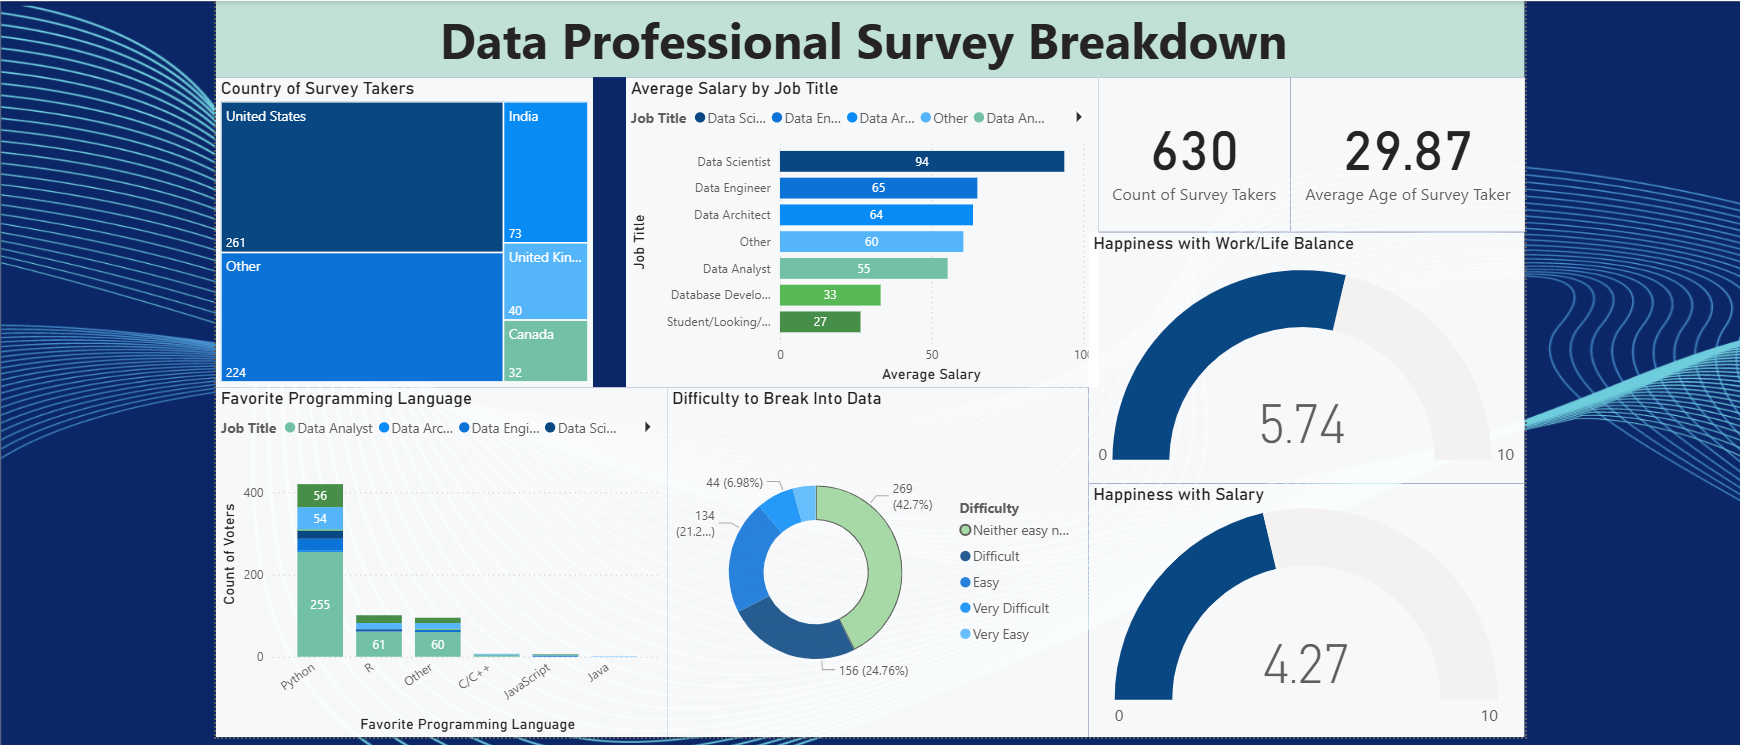

This screenshot's page, from the dashboard's own definition file:
{"tool":"powerbi","page":{"name":"Page 1","canvas":[1280,720],"ordinal":0},"visuals":[{"type":"textbox","box":[0,0,1280.3,74.1],"z":0},{"type":"card","fields":{"Values":["CountNonNull(Data Professional Survey.Unique ID)"]},"box":[863.1,74.1,188,150.9],"z":1000},{"type":"card","fields":{"Values":["Avg(Data Professional Survey.Q10 - Current Age)"]},"box":[1051.1,74.1,229.2,150.9],"z":2000},{"type":"barChart","title":"Average Salary by Job Title","fields":{"Category":["Data Professional Survey.Q1 - Which Title Best Fits your Current Role?.1"],"Y":["Avg(Data Professional Survey.Average Salary)"],"Series":["Data Professional Survey.Q1 - Which Title Best Fits your Current Role?.1"]},"box":[400.7,74.1,462.4,303.3],"z":3000},{"type":"columnChart","title":"  Favorite Programming Language","fields":{"Category":["Data Professional Survey.Q5 - Favorite Programming Language.1.1.1"],"Y":["CountNonNull(Data Professional Survey.Unique ID)"],"Series":["Data Professional Survey.Q1 - Which Title Best Fits your Current Role?.1"]},"box":[0,377.9,441.4,342.4],"z":3001},{"type":"treemap","title":"Country of Survey Takers","fields":{"Values":["CountNonNull(Data Professional Survey.Q11 - Which Country do you live in?.1)"],"Group":["Data Professional Survey.Q11 - Which Country do you live in?.1"]},"box":[0,74.1,369.1,303.3],"z":3002},{"type":"gauge","title":"Happiness with Salary","fields":{"Y":["Avg(Data Professional Survey.Q6 - How Happy are you in your Current Position with the following? (Salary))"],"MinValue":["Min(Data Professional Survey.Q6 - How Happy are you in your Current Position with the following? (Salary))"],"MaxValue":["Max(Data Professional Survey.Q6 - How Happy are you in your Current Position with the following? (Salary))"]},"box":[853.5,472,426.8,248.4],"z":3003},{"type":"gauge","title":"Happiness with Work/Life Balance","fields":{"Y":["Avg(Data Professional Survey.Q6 - How Happy are you in your Current Position with the following? (Work/Life Balance))"],"MinValue":["Min(Data Professional Survey.Q6 - How Happy are you in your Current Position with the following? (Work/Life Balance))"],"MaxValue":["Max(Data Professional Survey.Q6 - How Happy are you in your Current Position with the following? (Work/Life Balance))"]},"box":[853.5,226.2,426.8,245.8],"z":3004},{"type":"donutChart","title":"Difficulty to Break Into Data","fields":{"Category":["Data Professional Survey.Q7 - How difficult was it for you to break into Data?"],"Y":["CountNonNull(Data Professional Survey.Q7 - How difficult was it for you to break into Data?)"]},"box":[441.9,377.4,411.7,343.1],"z":3005}]}

Visuals, with their boxes in screenshot pixels (x1, y1, x2, y2):
textbox: locate(213, 0, 1516, 71)
card - CountNonNull(Data Professional Survey.Unique ID): locate(1091, 71, 1283, 224)
card - Avg(Data Professional Survey.Q10 - Current Age): locate(1283, 71, 1516, 224)
"Average Salary by Job Title" barChart: locate(621, 71, 1091, 380)
"  Favorite Programming Language" columnChart: locate(213, 380, 662, 729)
"Country of Survey Takers" treemap: locate(213, 71, 589, 380)
"Happiness with Salary" gauge: locate(1082, 476, 1516, 729)
"Happiness with Work/Life Balance" gauge: locate(1082, 226, 1516, 476)
"Difficulty to Break Into Data" donutChart: locate(663, 380, 1082, 729)
